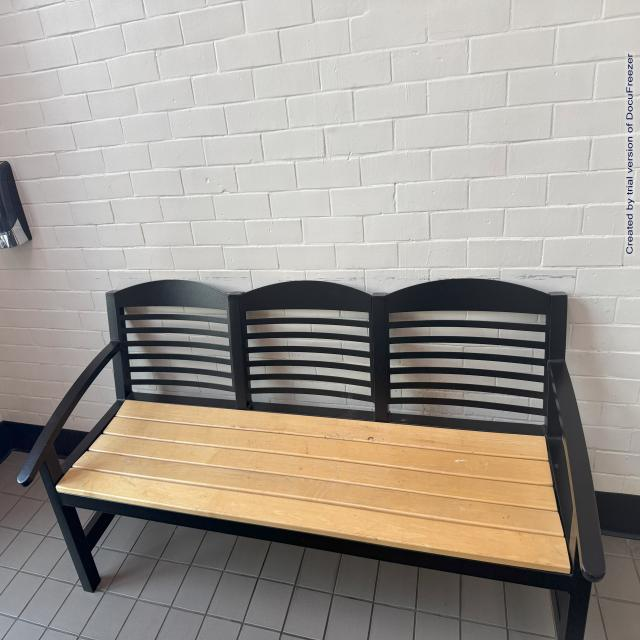chair: (18, 264, 624, 640)
